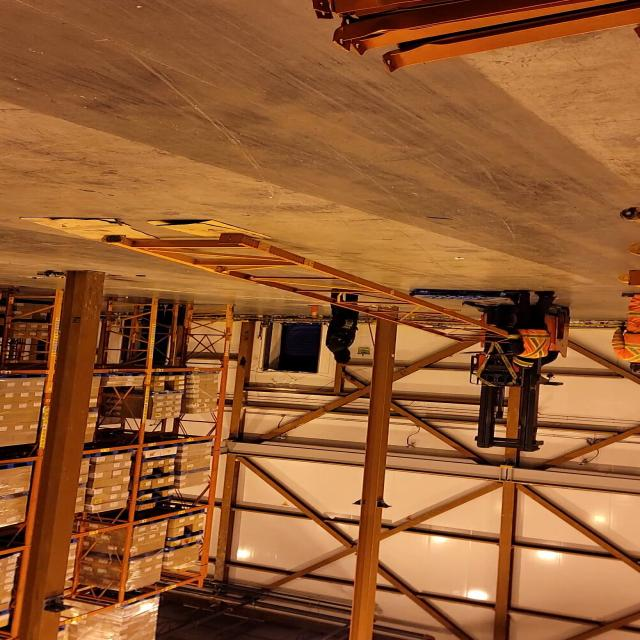forklift: (457, 298, 571, 448)
human: (500, 288, 569, 370), (318, 286, 366, 362), (606, 288, 640, 375), (511, 344, 563, 374)
objectofinterest: (100, 232, 516, 347), (9, 215, 163, 248), (143, 217, 275, 242), (406, 284, 521, 306)
